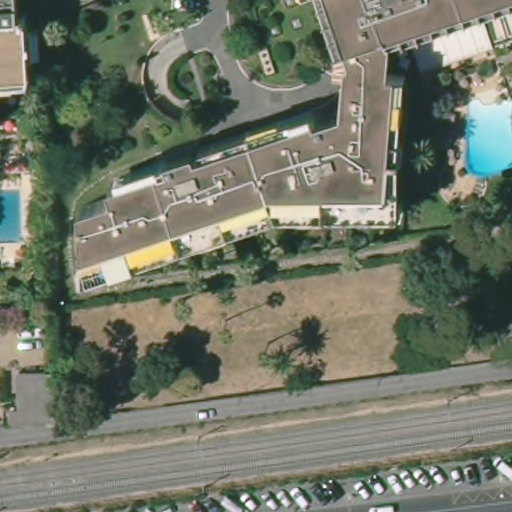pool: (454, 92, 512, 179), (1, 186, 27, 247)
